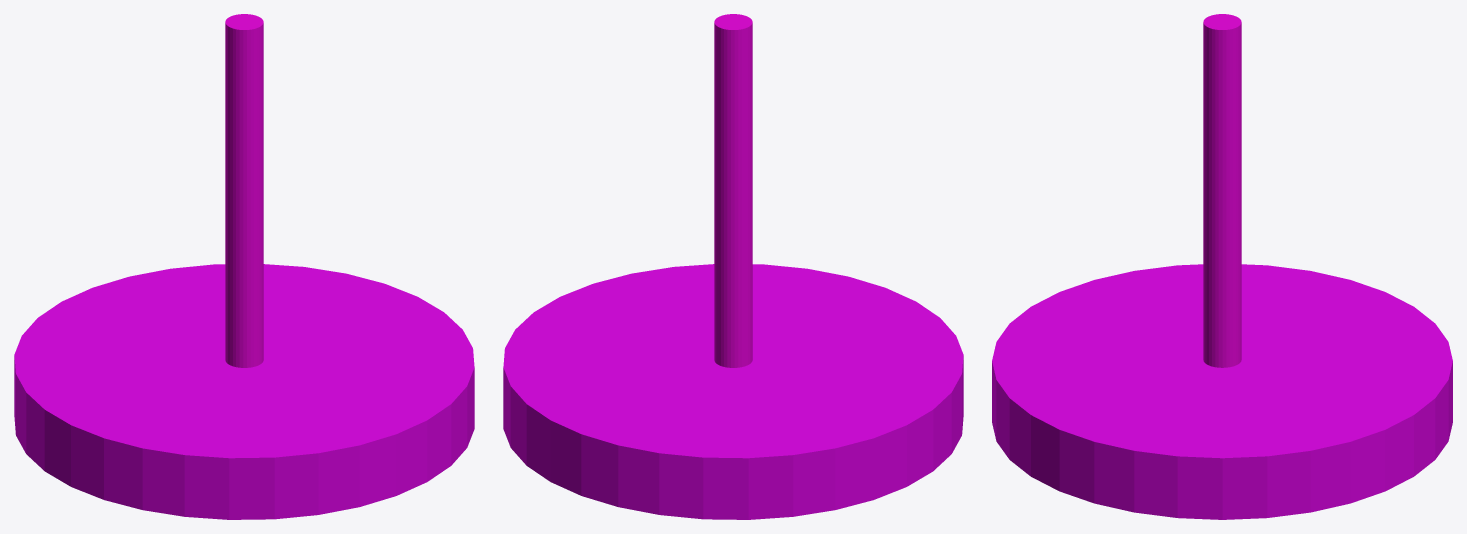
Rendered from hanginglights 1.fbx.
3 views of the same model, side by side, from view 1: azimuth 30°, elevation 25°; view 2: azimuth 150°, elevation 25°; view 3: azimuth 270°, elevation 25° (orthographic).
Visible parts, largest first — view 1: Cylinder.001, Cylinder; view 2: Cylinder.001, Cylinder; view 3: Cylinder.001, Cylinder.
Part boxes in pixels (x1=…): Cylinder.001: x1=14, y1=264, x2=474, y2=519; Cylinder: x1=225, y1=14, x2=263, y2=367; Cylinder.001: x1=503, y1=264, x2=963, y2=519; Cylinder: x1=714, y1=14, x2=752, y2=367; Cylinder.001: x1=992, y1=264, x2=1452, y2=519; Cylinder: x1=1203, y1=14, x2=1241, y2=367.
Bounding box in the file's own units: 684 × 722 × 684.
